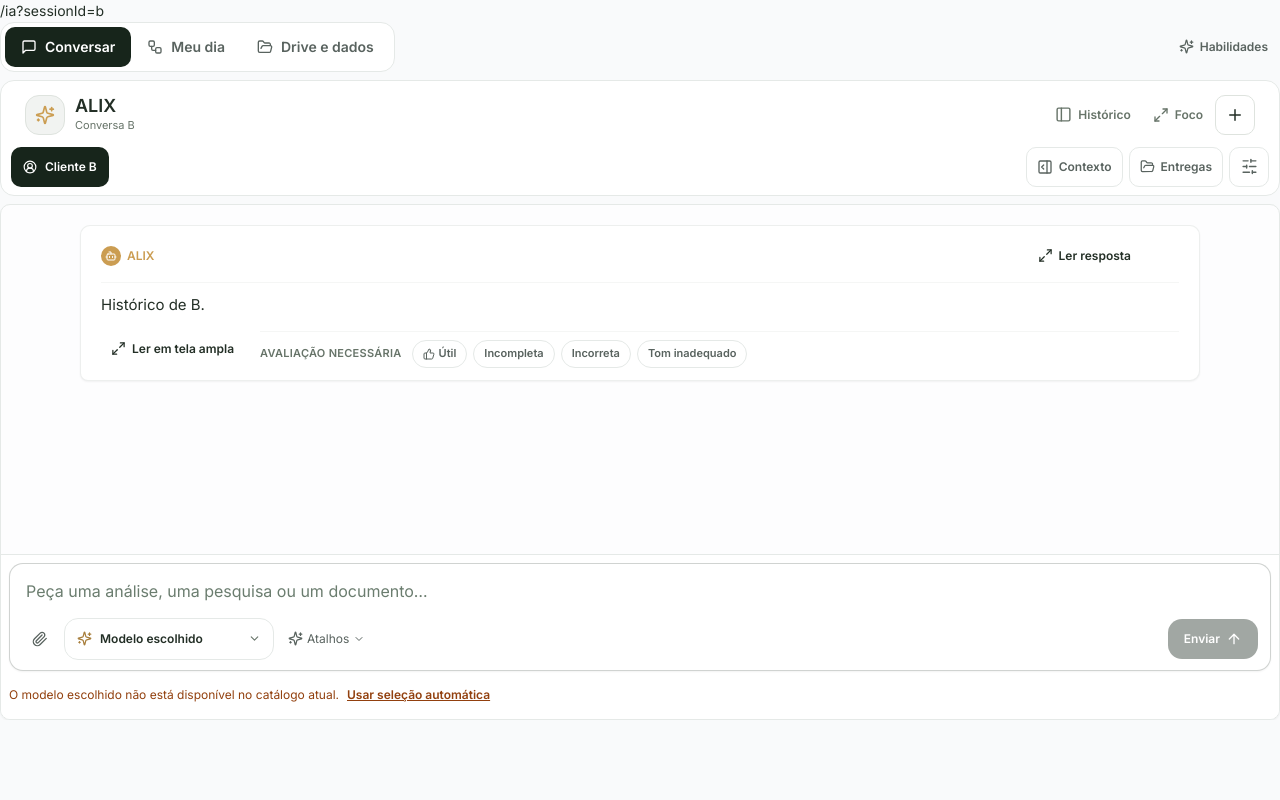
Test: Continuidade e escopo da conversa ALIX › o rodapé da resposta também abre a leitura ampla
Click the button "Ler em tela ampla" at coordinates (173, 349), box [101,331,244,367]
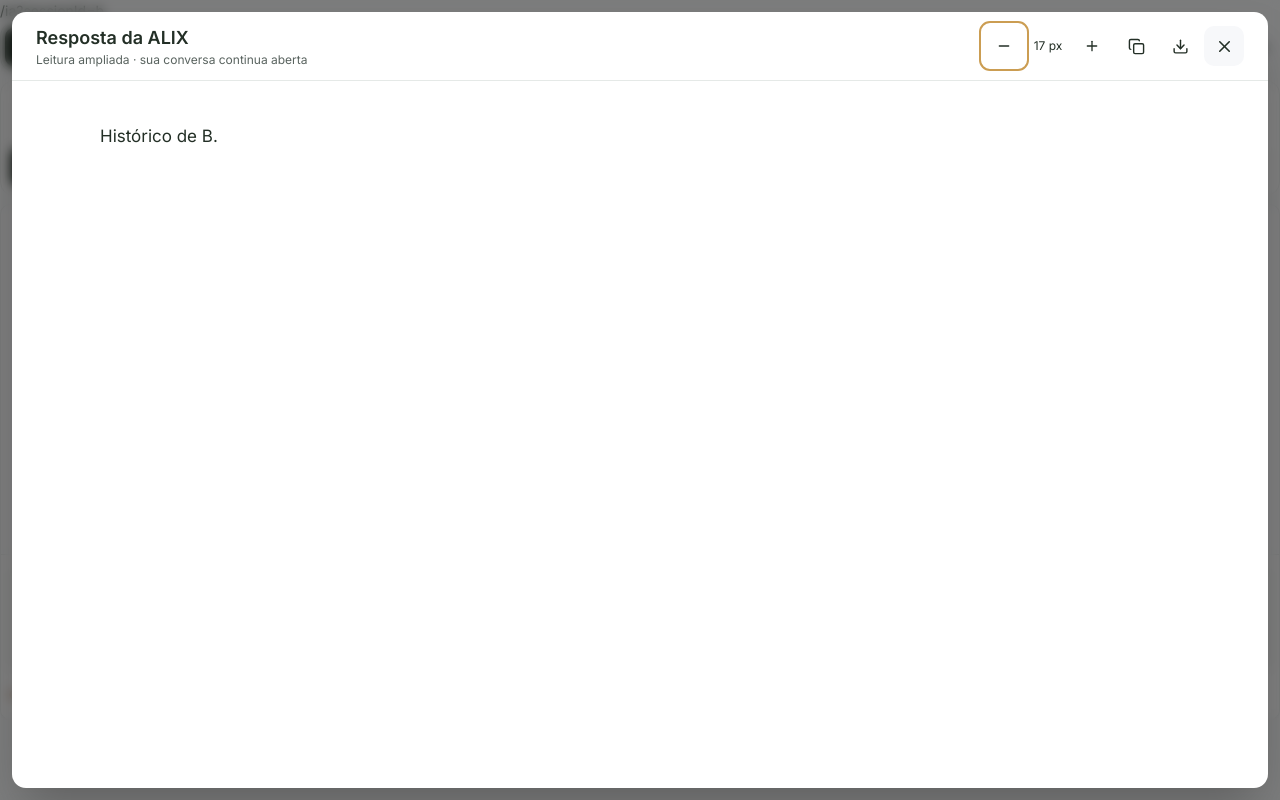
Now the dialog is shown
Now the dialog shows "Histórico de B.", box [100,126,218,146]
